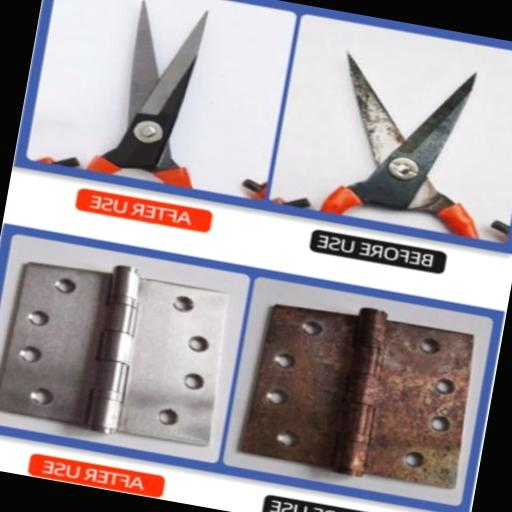segmentation: (237, 290, 420, 482), (354, 319, 477, 489), (412, 376, 489, 454)
